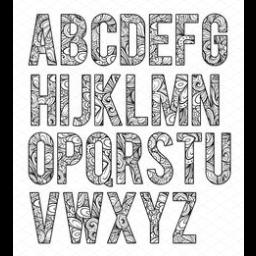a: (22, 12, 56, 68)
i: (55, 72, 71, 130)
o: (24, 132, 56, 186)
q: (84, 132, 114, 190)
t: (175, 130, 201, 188)
v: (24, 192, 62, 244)
x: (106, 192, 140, 248)
